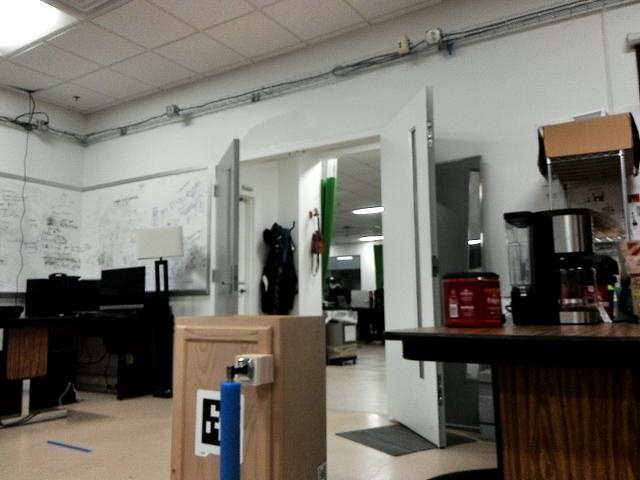noodle_handle: (211, 373, 243, 480)
